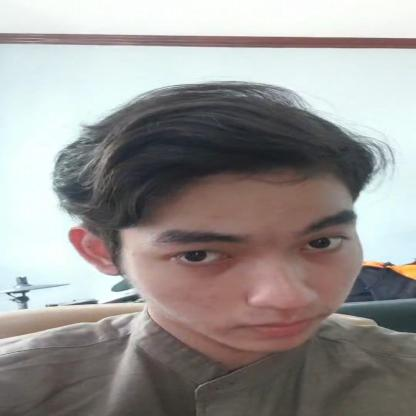Palm: (34, 75, 415, 373)
